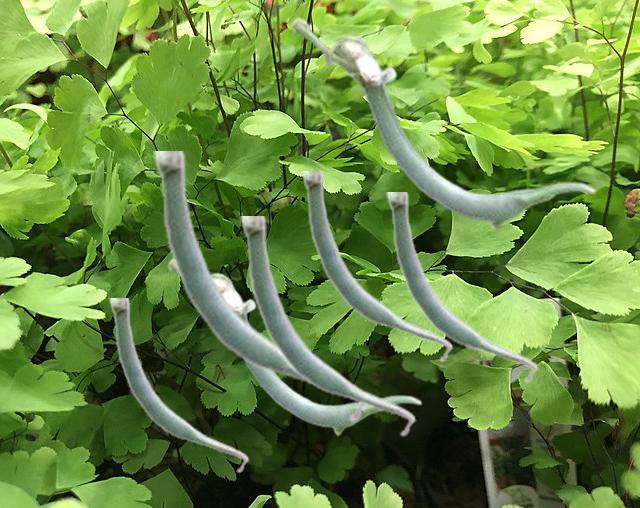french_bean: (290, 16, 595, 230), (153, 151, 368, 423), (167, 258, 421, 435), (240, 216, 415, 437), (386, 192, 537, 383), (301, 171, 452, 362), (109, 298, 248, 473)
